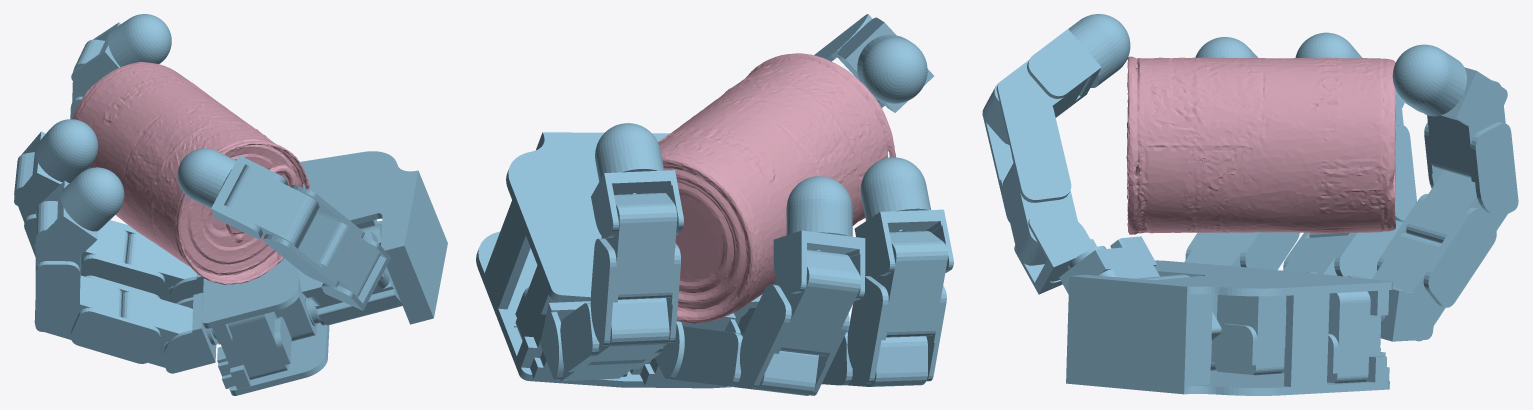
The picture shows the model from 3 angles, left to right: view 1: azimuth 30°, elevation 25°; view 2: azimuth 150°, elevation 25°; view 3: azimuth 270°, elevation 25°; orthographic projection. The views are drawn at different scales.
Parts seen in each view (by area): view 1: world; view 2: world; view 3: world.
Boxes of the visible parts, x1=… form: world: x1=14, y1=14, x2=447, y2=395; world: x1=476, y1=14, x2=953, y2=395; world: x1=982, y1=14, x2=1518, y2=395.
Size of the model in its own units: 0.1981 by 0.1401 by 0.2028.
